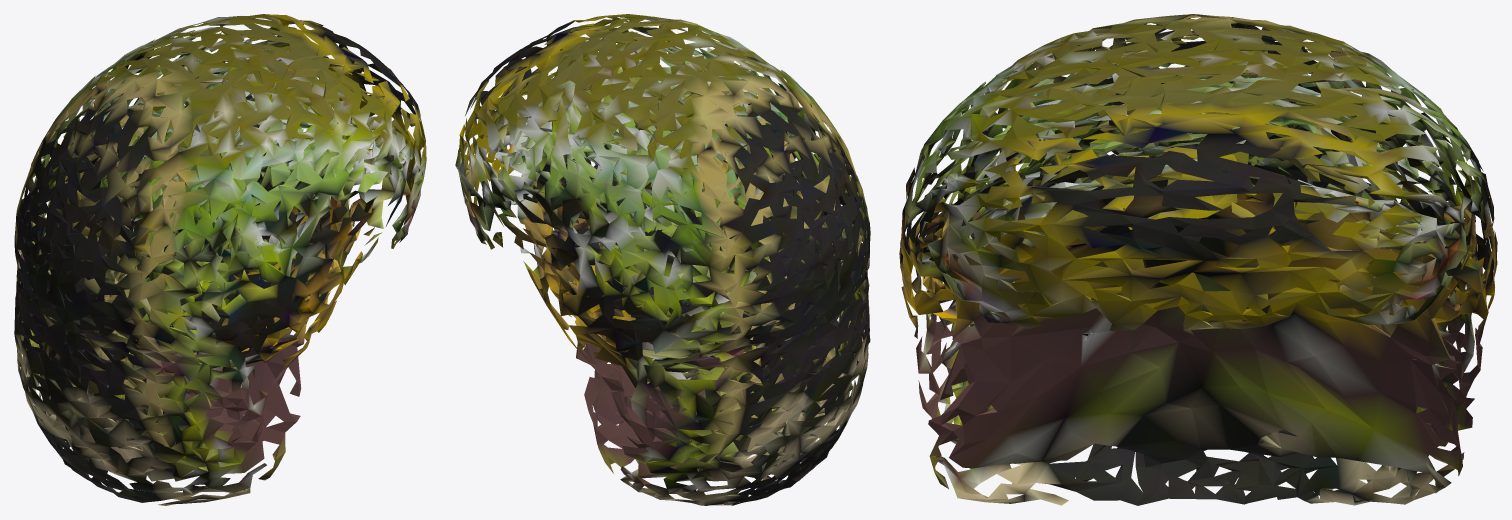
The model's file is zombie.glb.
3 views of the same model, side by side, from view 1: azimuth 30°, elevation 25°; view 2: azimuth 150°, elevation 25°; view 3: azimuth 270°, elevation 25° (orthographic). The views are drawn at different scales.
Visible parts, largest first — view 1: world; view 2: world; view 3: world.
Part boxes in pixels (box(x1,y1,x2,y2)): world: box(14, 14, 426, 505); world: box(455, 14, 870, 505); world: box(899, 14, 1497, 505).
Bounding box in the file's own units: 0.9031 × 1 × 0.9951.
